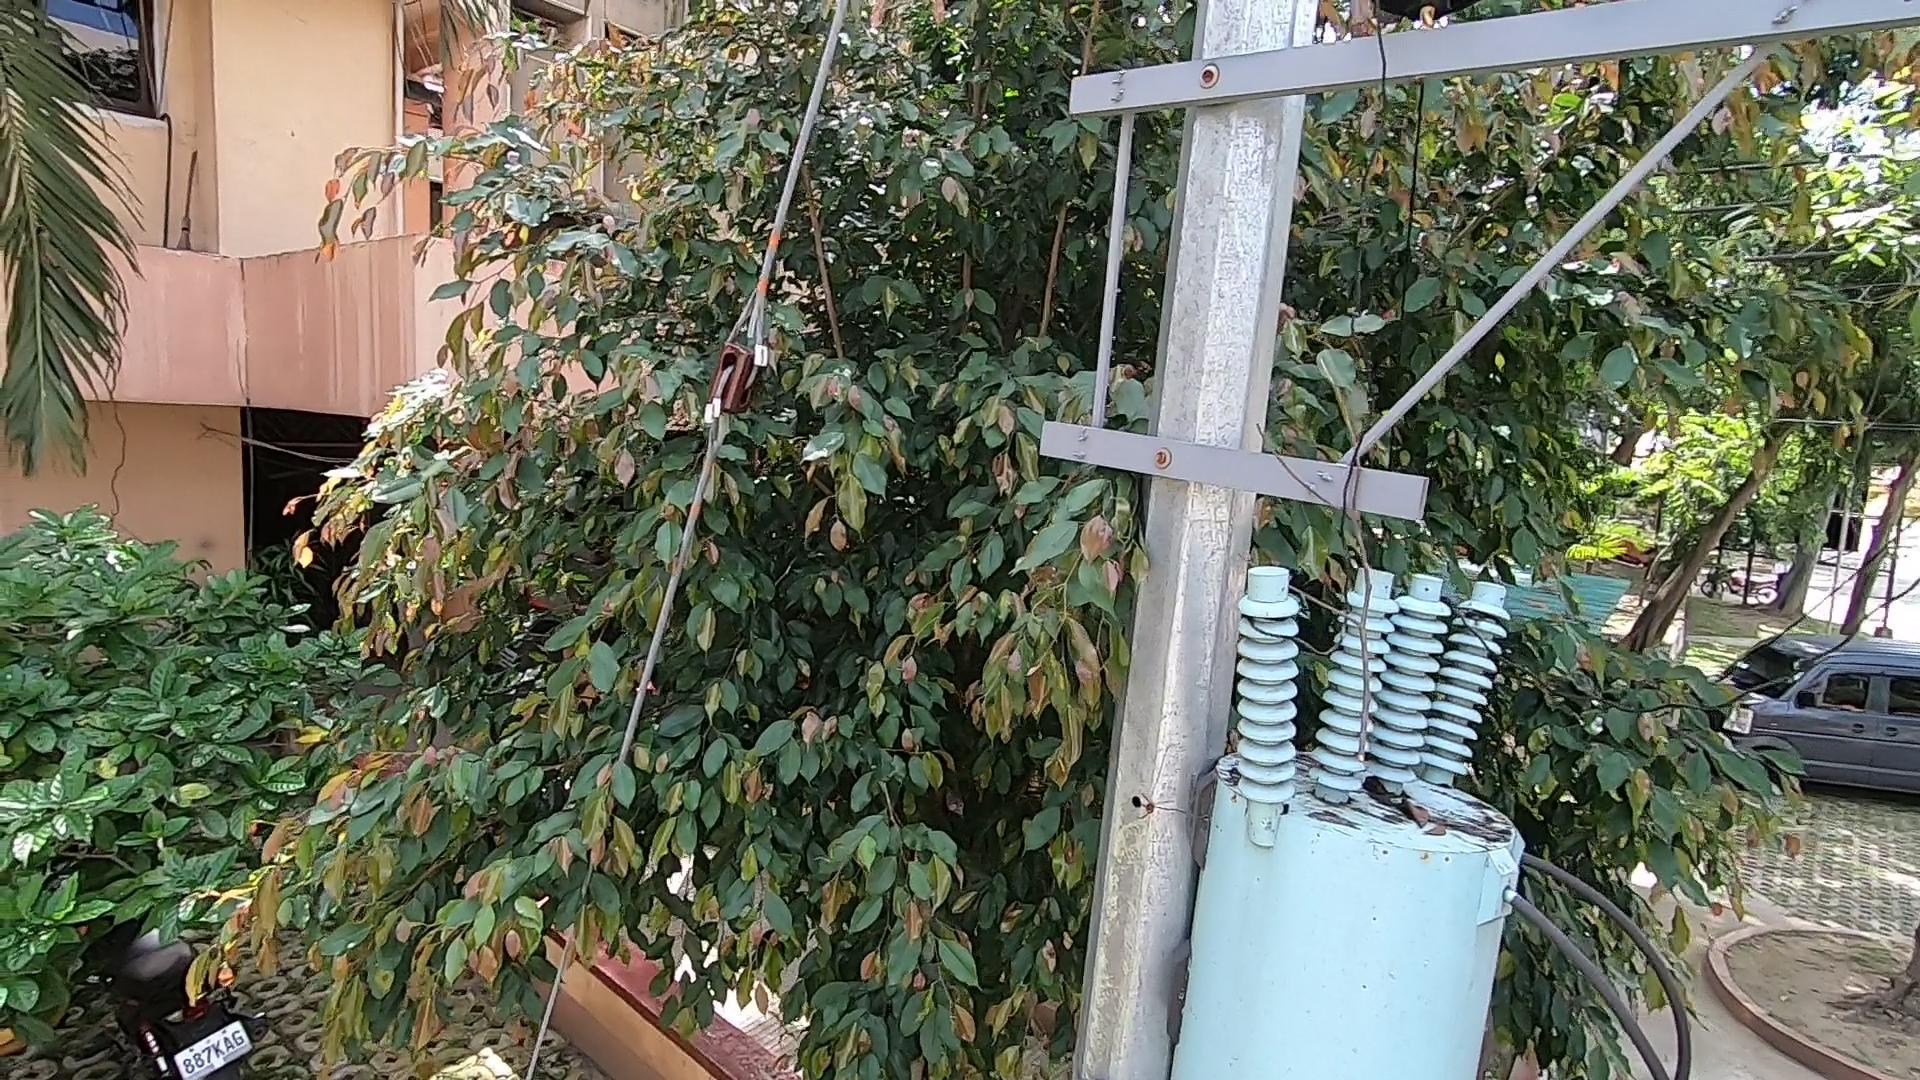leaf: (1354, 769, 1445, 832)
tree branch: (1261, 407, 1402, 764)
